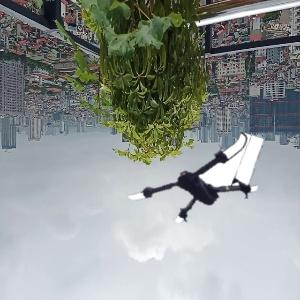drone: (131, 120, 258, 247)
